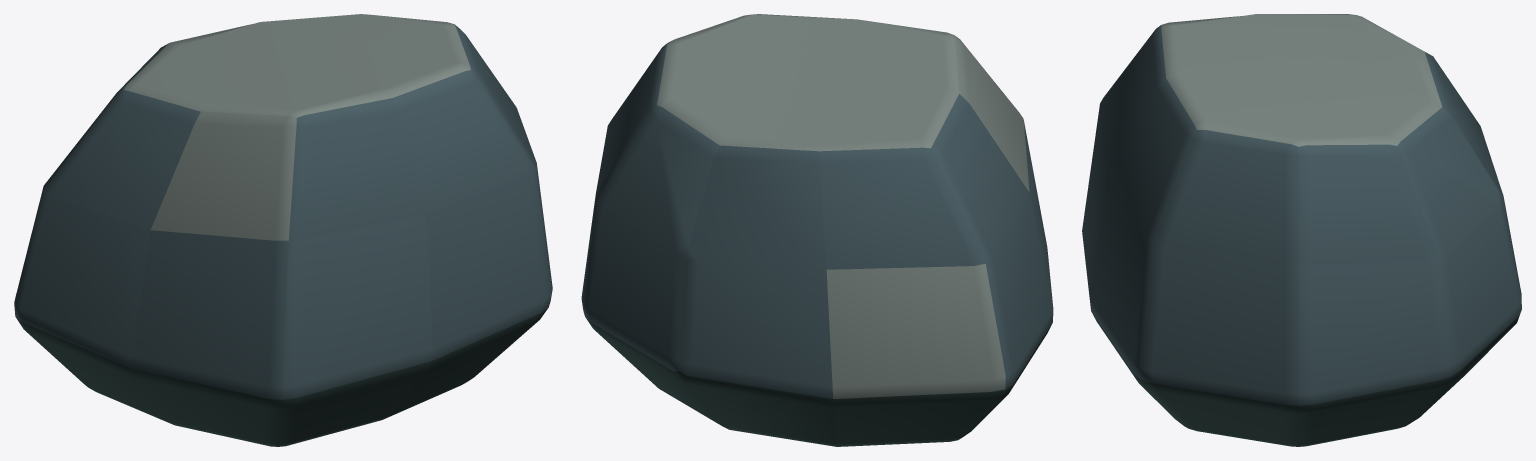
Rendered from rock-basalt-v4.glb.
3 views of the same model, side by side, from view 1: azimuth 30°, elevation 25°; view 2: azimuth 150°, elevation 25°; view 3: azimuth 270°, elevation 25° (orthographic). The views are drawn at different scales.
Visible parts, largest first — view 1: Rock basalt; view 2: Rock basalt; view 3: Rock basalt.
Boxes of the visible parts, x1=… form: Rock basalt: x1=14, y1=14, x2=552, y2=446; Rock basalt: x1=581, y1=14, x2=1053, y2=446; Rock basalt: x1=1082, y1=14, x2=1521, y2=446.
Size of the model in its own units: 2.66 by 1.77 by 2.2.
